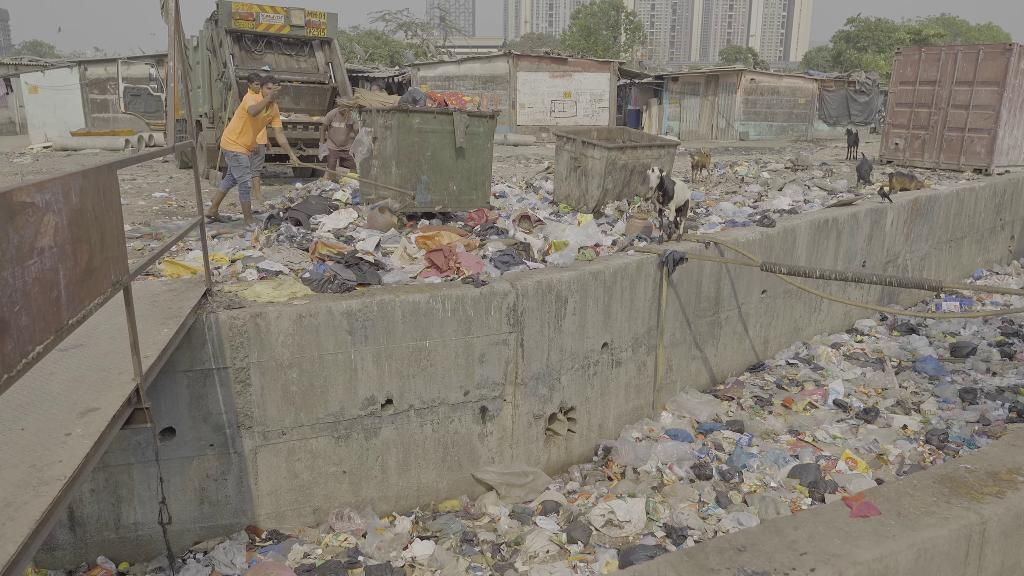dustbin: (355, 105, 498, 213), (554, 119, 682, 210)
garbage: (409, 221, 491, 284), (581, 493, 652, 539), (305, 257, 383, 293), (662, 383, 731, 423), (603, 428, 653, 467), (829, 444, 874, 487), (324, 502, 366, 537), (307, 206, 359, 234), (651, 436, 699, 466), (614, 541, 672, 564), (803, 475, 844, 503), (912, 350, 951, 379), (564, 220, 604, 248), (397, 538, 437, 563), (661, 519, 690, 546), (390, 508, 418, 535), (925, 424, 950, 451), (694, 418, 729, 437), (662, 424, 695, 444), (825, 379, 847, 409), (454, 492, 478, 517), (855, 402, 881, 424), (692, 460, 716, 482), (957, 385, 981, 406), (508, 501, 537, 518), (712, 487, 733, 509), (733, 431, 755, 447), (927, 412, 948, 426), (796, 429, 815, 444)
